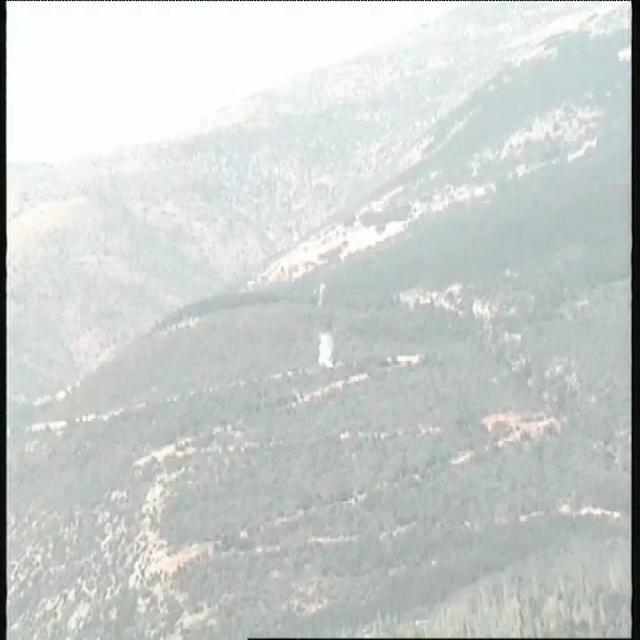smoke: (316, 331, 339, 372)
